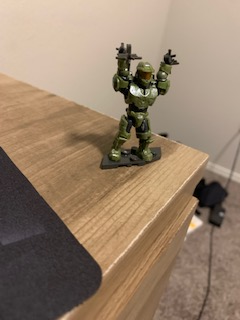chief: (106, 55, 176, 161)
spartan: (104, 53, 174, 159)
up: (112, 56, 174, 112)
